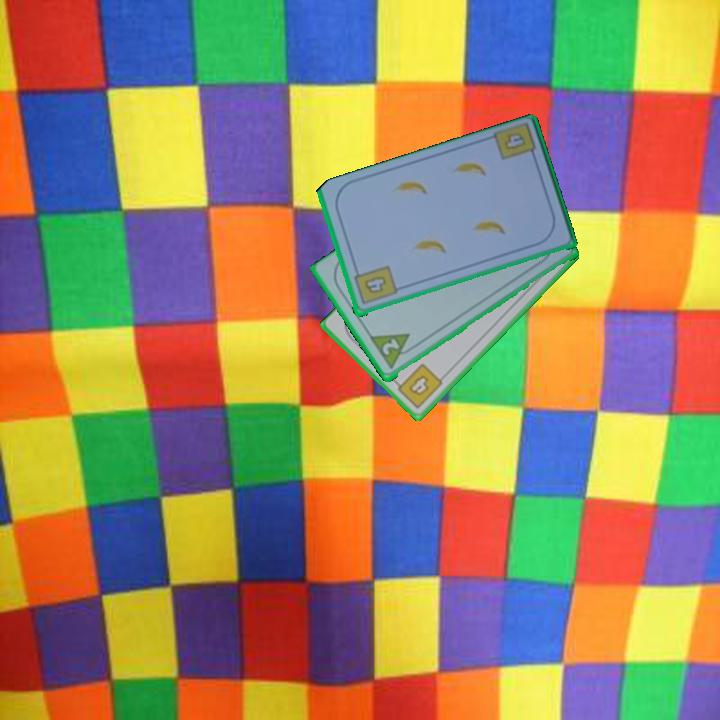2p: (367, 330, 420, 373)
4b: (390, 360, 446, 412), (350, 262, 399, 308), (490, 121, 539, 165)
